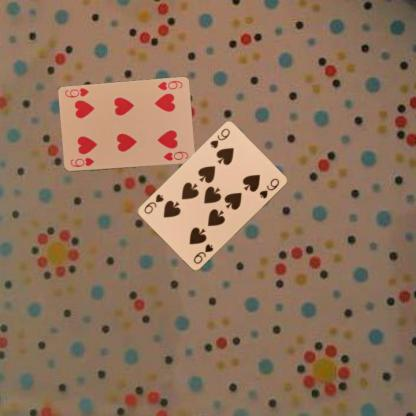6h: (155, 78, 184, 92), (68, 155, 95, 168)
9s: (191, 241, 214, 267), (208, 126, 231, 150)
